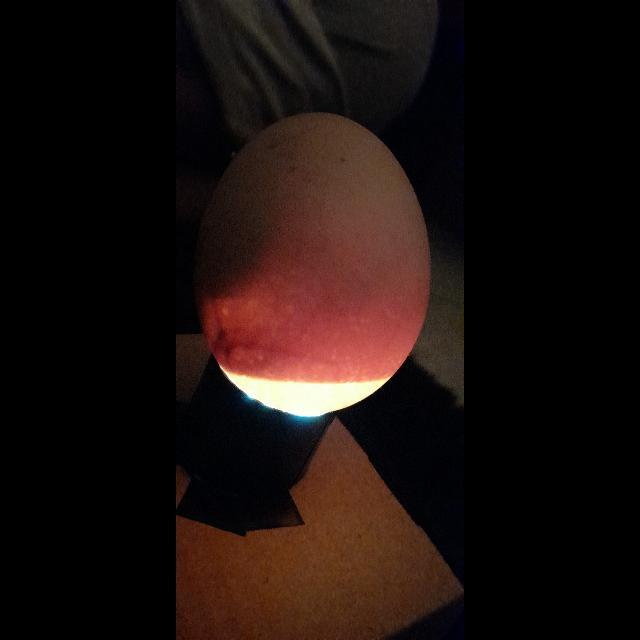Fertile: (200, 104, 432, 424)
